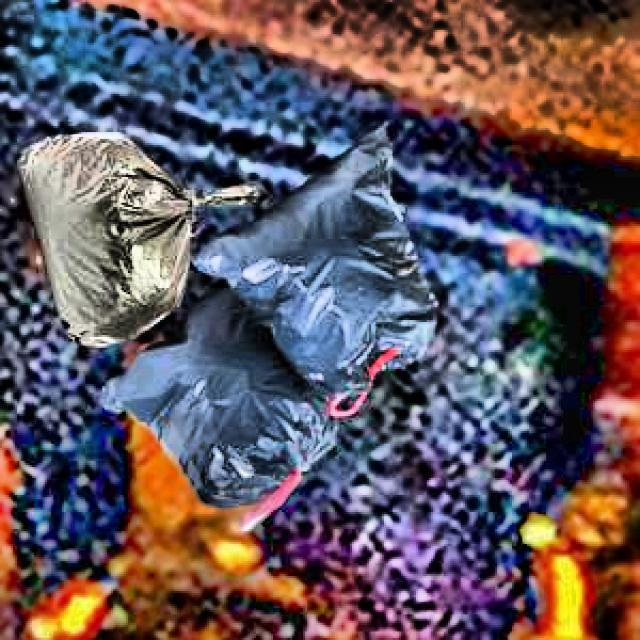Trashbag: (232, 159, 452, 379), (98, 317, 306, 517), (19, 124, 200, 345)
